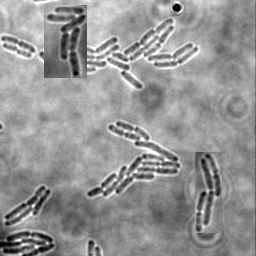Dividing: (1, 34, 37, 52), (3, 41, 33, 57)
Microcolony: (40, 18, 199, 89), (87, 120, 181, 197), (44, 5, 87, 78), (195, 152, 222, 233), (5, 184, 52, 226), (1, 230, 56, 255)
